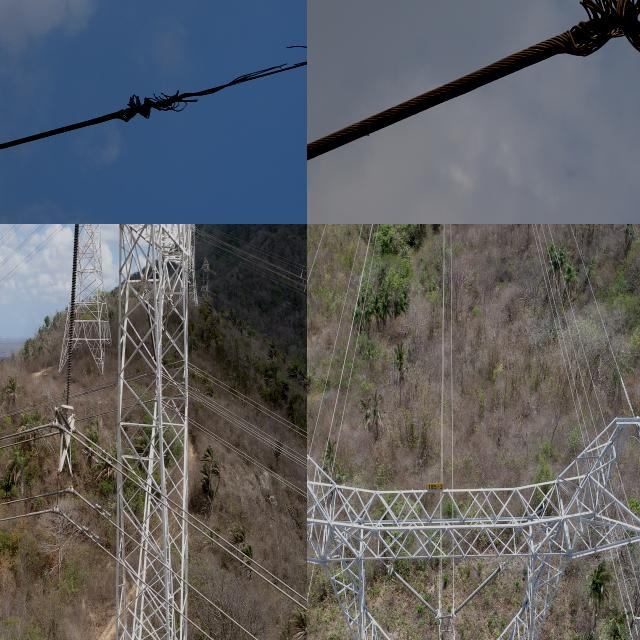杆塔: (307, 406, 640, 640), (54, 224, 207, 640)
正常绝缘子: (58, 224, 85, 428), (386, 560, 441, 622), (451, 561, 505, 620)
电缆破损: (112, 0, 307, 146)
